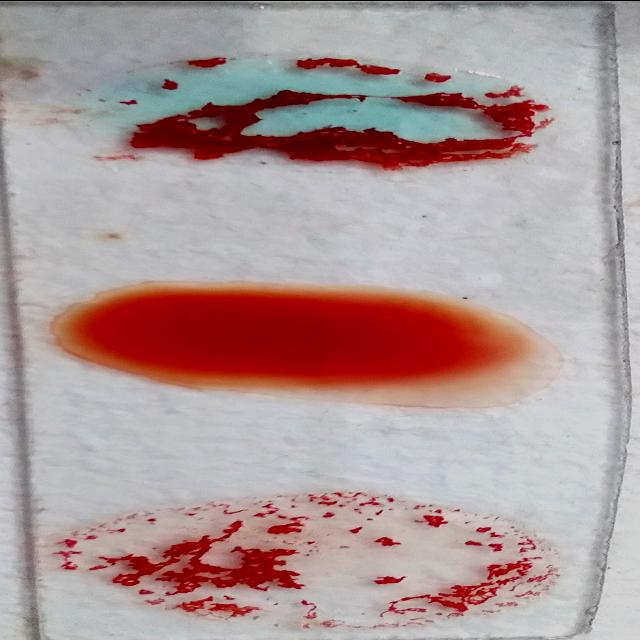A: (101, 55, 553, 166)
D: (63, 493, 556, 622)
